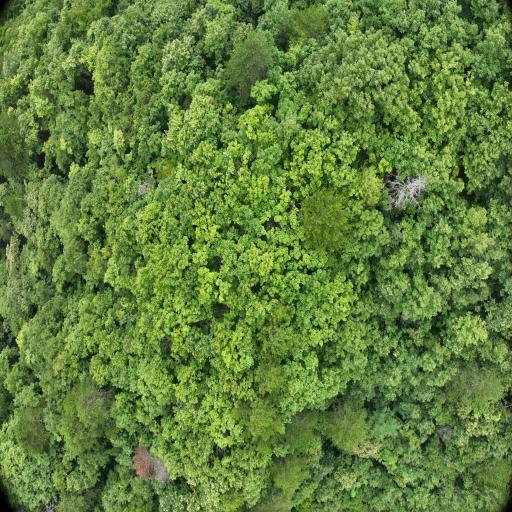dead-tree: (391, 177, 419, 206), (158, 465, 165, 478)
sick-tree: (138, 452, 150, 472)
